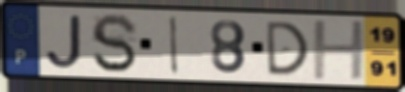8: (209, 18, 249, 76)
D: (263, 19, 311, 77)
H: (311, 19, 368, 82)
I: (168, 14, 181, 76)
J: (43, 13, 84, 71)
S: (88, 11, 140, 75)
